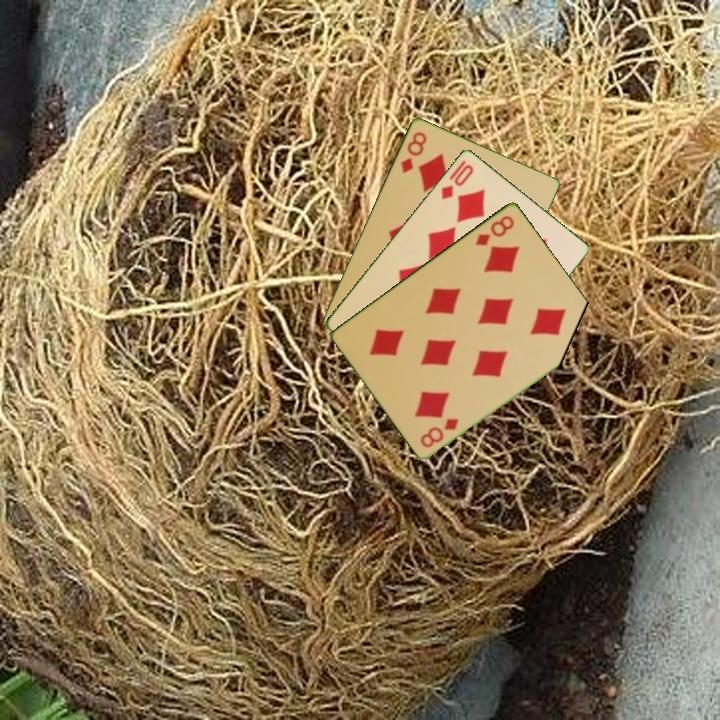10d: (437, 156, 477, 202)
8d: (472, 211, 517, 248), (417, 414, 462, 450), (397, 128, 430, 176)
